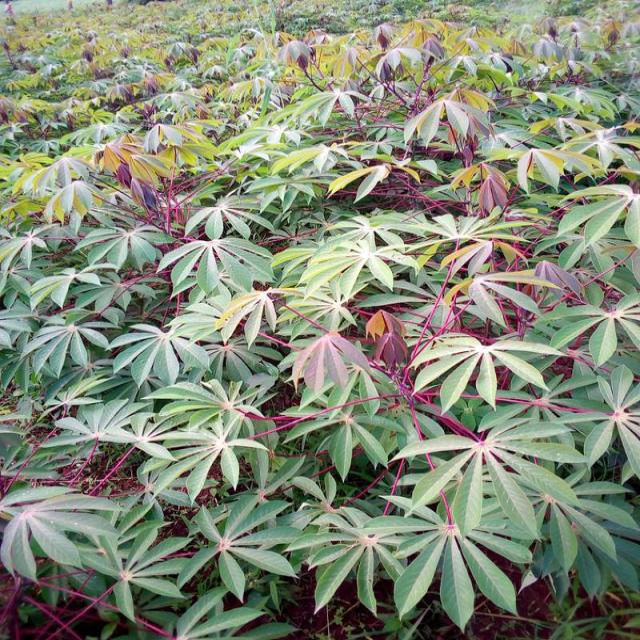cassava leaf: (1, 6, 638, 636)
